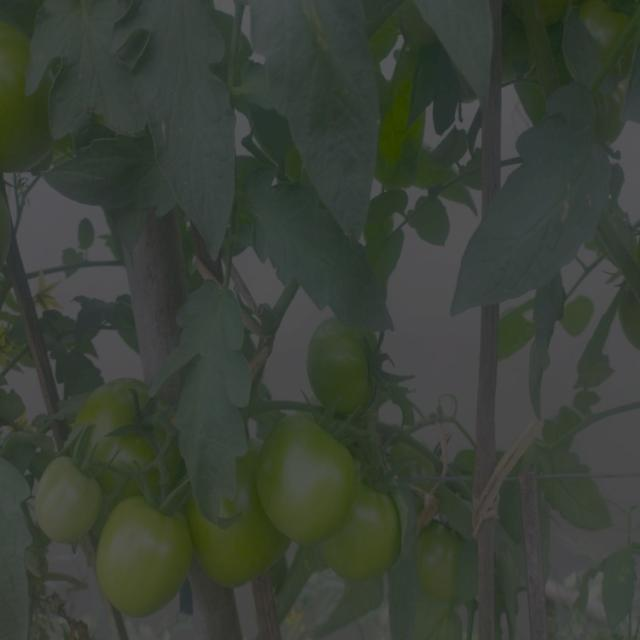tomato: (266, 413, 356, 542), (90, 498, 190, 614), (81, 374, 173, 486), (1, 21, 55, 181), (322, 481, 395, 586), (197, 499, 277, 593), (310, 310, 379, 409), (37, 463, 93, 536), (595, 1, 640, 69), (414, 526, 452, 595)
